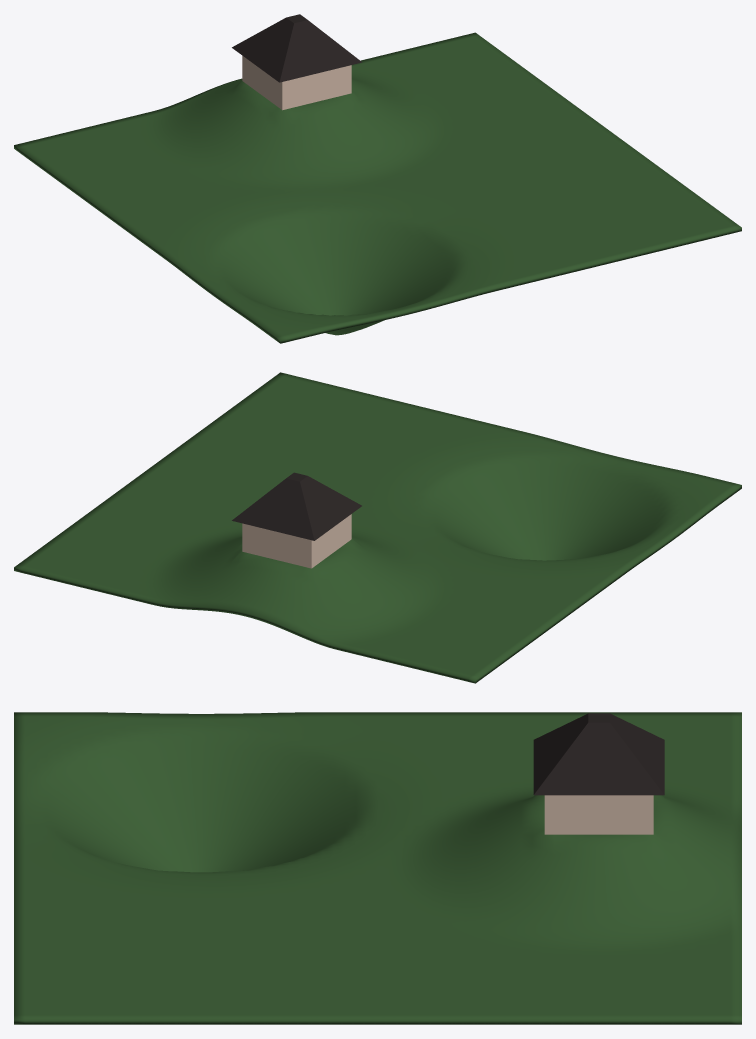
File: homebase.fbx
The picture shows the model from 3 angles, top to bottom: view 1: azimuth 30°, elevation 25°; view 2: azimuth 150°, elevation 25°; view 3: azimuth 270°, elevation 25°; orthographic projection. The views are drawn at different scales.
Visible parts, largest first — view 1: Plane; view 2: Plane; view 3: Plane.
Boxes of the visible parts, bbox=[...] form: Plane: bbox=[14, 14, 741, 343]; Plane: bbox=[14, 372, 741, 683]; Plane: bbox=[14, 712, 741, 1024].
Size of the model in its own units: 2000 by 764 by 2000.
